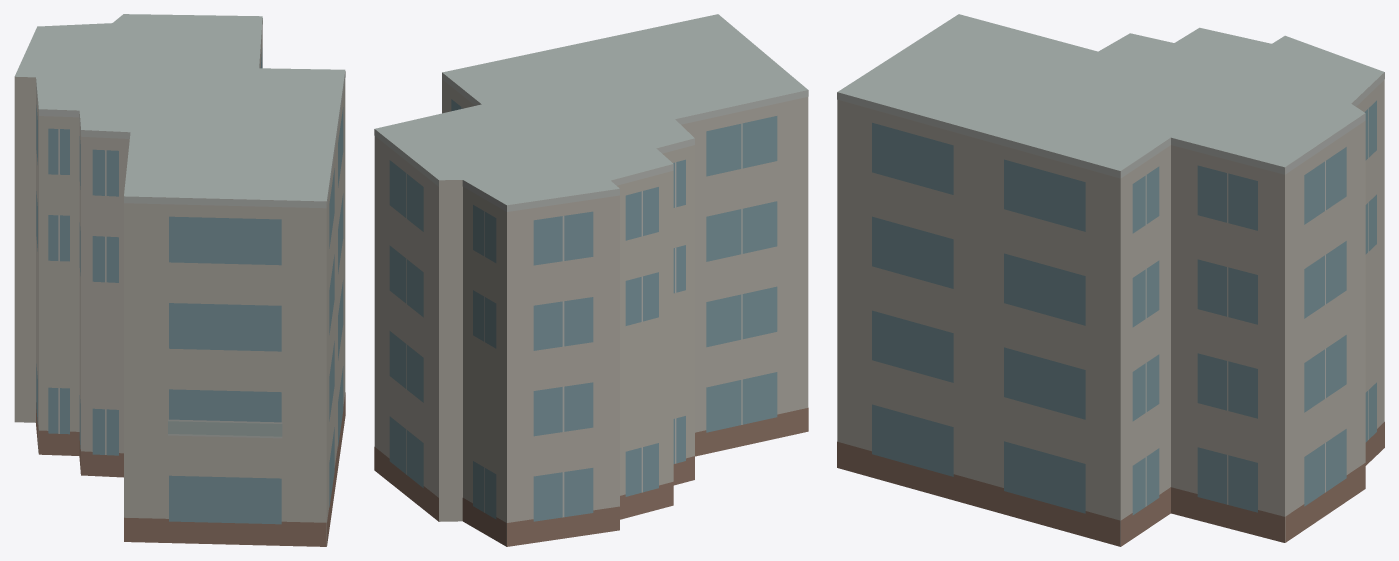
Rendered from survey-upis-32625357.glb.
The picture shows the model from 3 angles, left to right: view 1: azimuth 30°, elevation 25°; view 2: azimuth 150°, elevation 25°; view 3: azimuth 270°, elevation 25°; orthographic projection. The views are drawn at different scales.
Visible parts, largest first — view 1: survey-upis-32625357.tmp; view 2: survey-upis-32625357.tmp; view 3: survey-upis-32625357.tmp.
Boxes of the visible parts, box(x1,y1,x2,y2) form: survey-upis-32625357.tmp: box(14, 14, 345, 546); survey-upis-32625357.tmp: box(374, 14, 808, 546); survey-upis-32625357.tmp: box(837, 14, 1384, 546).
Size of the model in its own units: 11.09 by 12.35 by 16.32.
